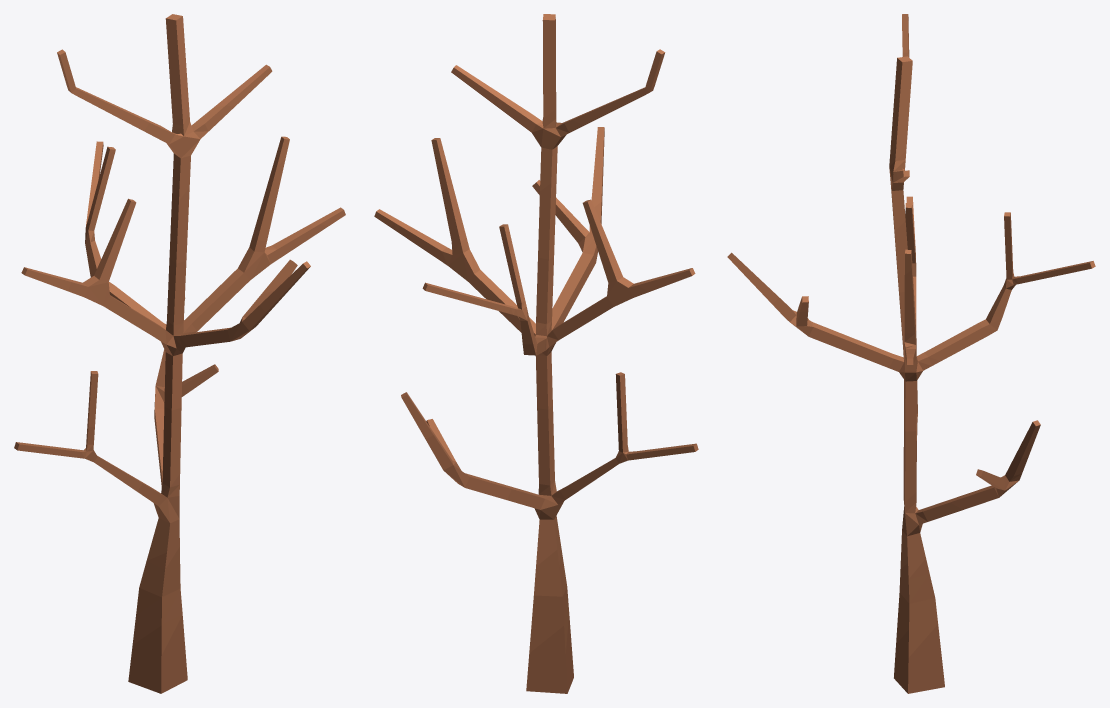
The model's file is forest_dead_tree.glb.
3 views of the same model, side by side, from view 1: azimuth 30°, elevation 25°; view 2: azimuth 150°, elevation 25°; view 3: azimuth 270°, elevation 25° (orthographic). The views are drawn at different scales.
Parts seen in each view (by area): view 1: forest_dead_tree; view 2: forest_dead_tree; view 3: forest_dead_tree.
Boxes of the visible parts, x1,y1,x2,y2 form: forest_dead_tree: (14, 14, 345, 693); forest_dead_tree: (374, 14, 698, 693); forest_dead_tree: (727, 14, 1095, 693).
Size of the model in its own units: 0.604 by 1.18 by 0.6273.
